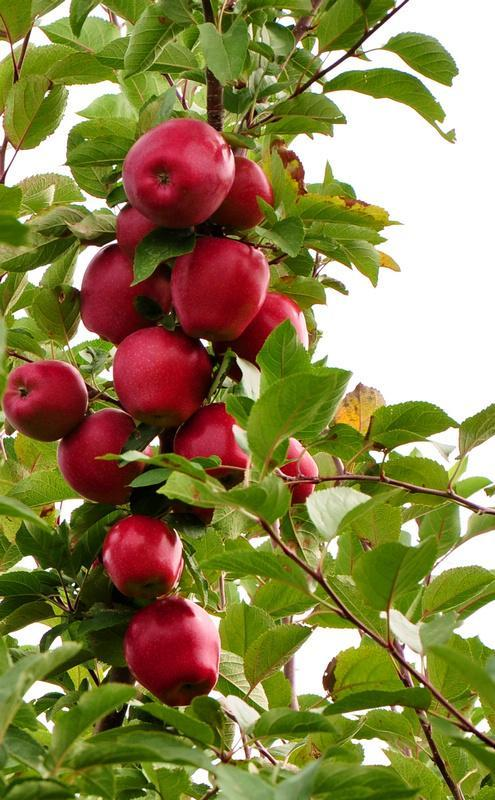apple: (120, 119, 237, 229), (123, 598, 221, 709), (173, 236, 271, 342), (111, 326, 210, 430), (77, 244, 169, 347), (212, 292, 309, 384), (57, 407, 142, 501), (3, 358, 87, 443), (98, 517, 181, 601), (174, 402, 246, 489), (206, 155, 273, 232), (280, 438, 319, 501)
